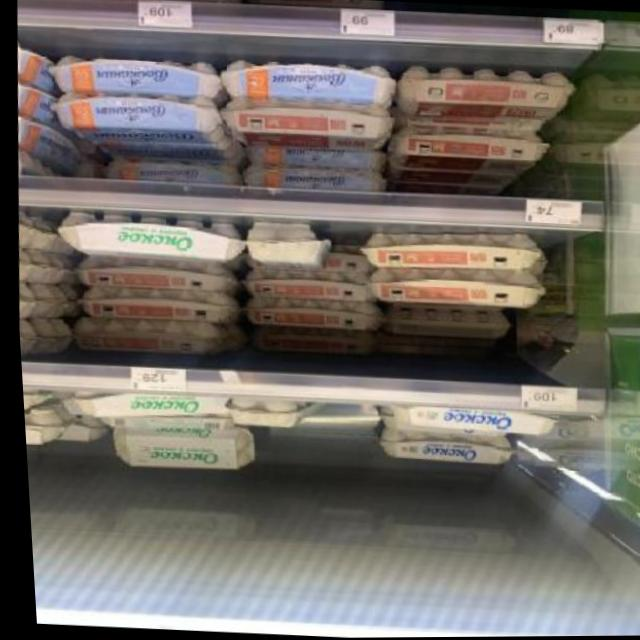Egg: (390, 62, 576, 125), (217, 94, 393, 152), (53, 209, 241, 263), (358, 224, 542, 274), (387, 122, 550, 177), (362, 263, 541, 311), (106, 420, 256, 476), (69, 285, 240, 325), (66, 315, 226, 357), (71, 255, 233, 295), (387, 402, 552, 438), (371, 426, 511, 466), (239, 294, 382, 332), (235, 266, 367, 304), (241, 220, 323, 262), (223, 396, 310, 431), (19, 405, 68, 447)
